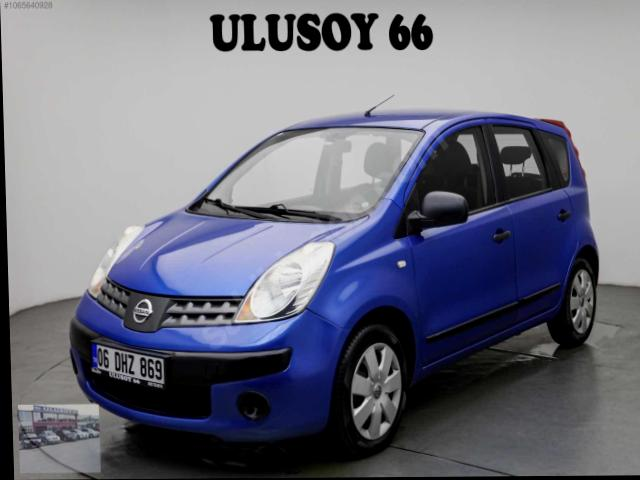plaka: (92, 344, 164, 388)
